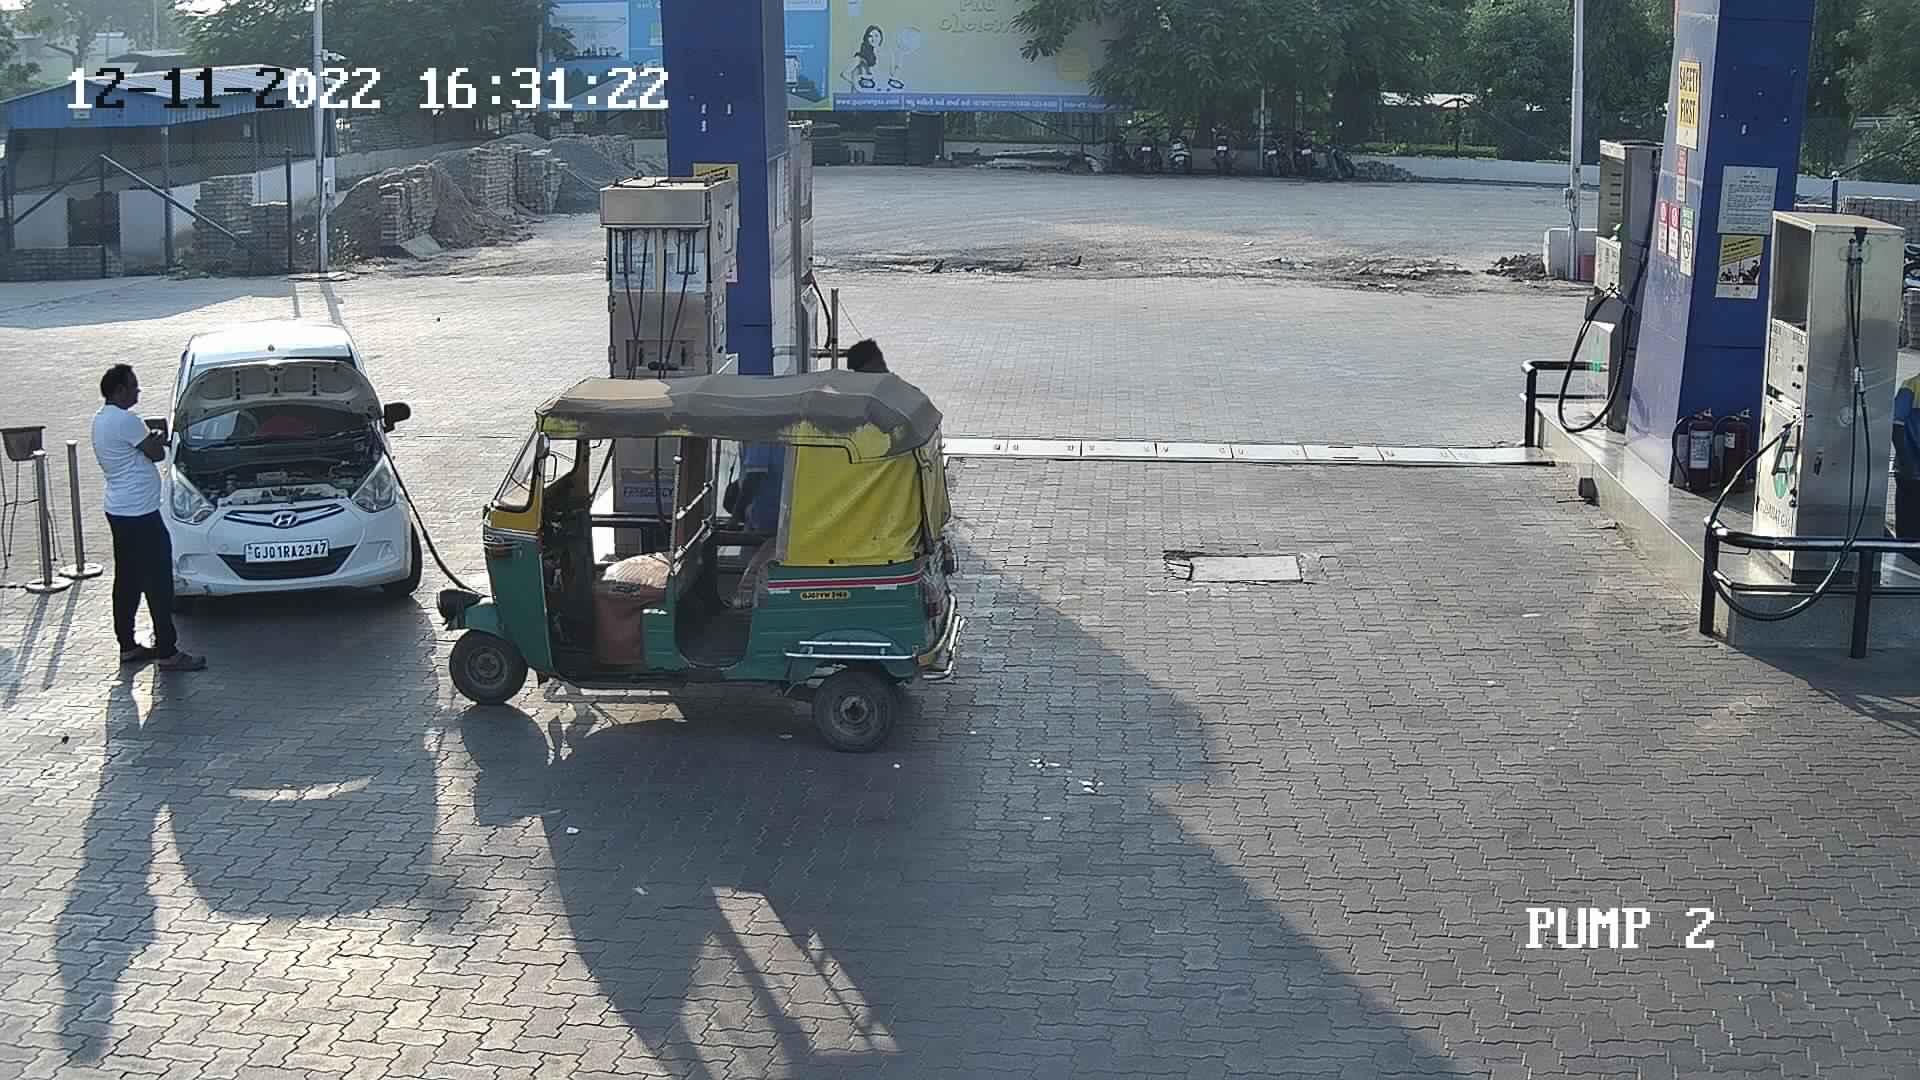Auto: (464, 342, 968, 756)
Bike: (1296, 111, 1362, 182), (1200, 109, 1249, 179), (1255, 107, 1299, 182), (1278, 111, 1325, 179), (1124, 111, 1172, 171), (1158, 109, 1197, 173)
Car: (127, 318, 433, 618)
Others: (1870, 332, 1917, 547)
